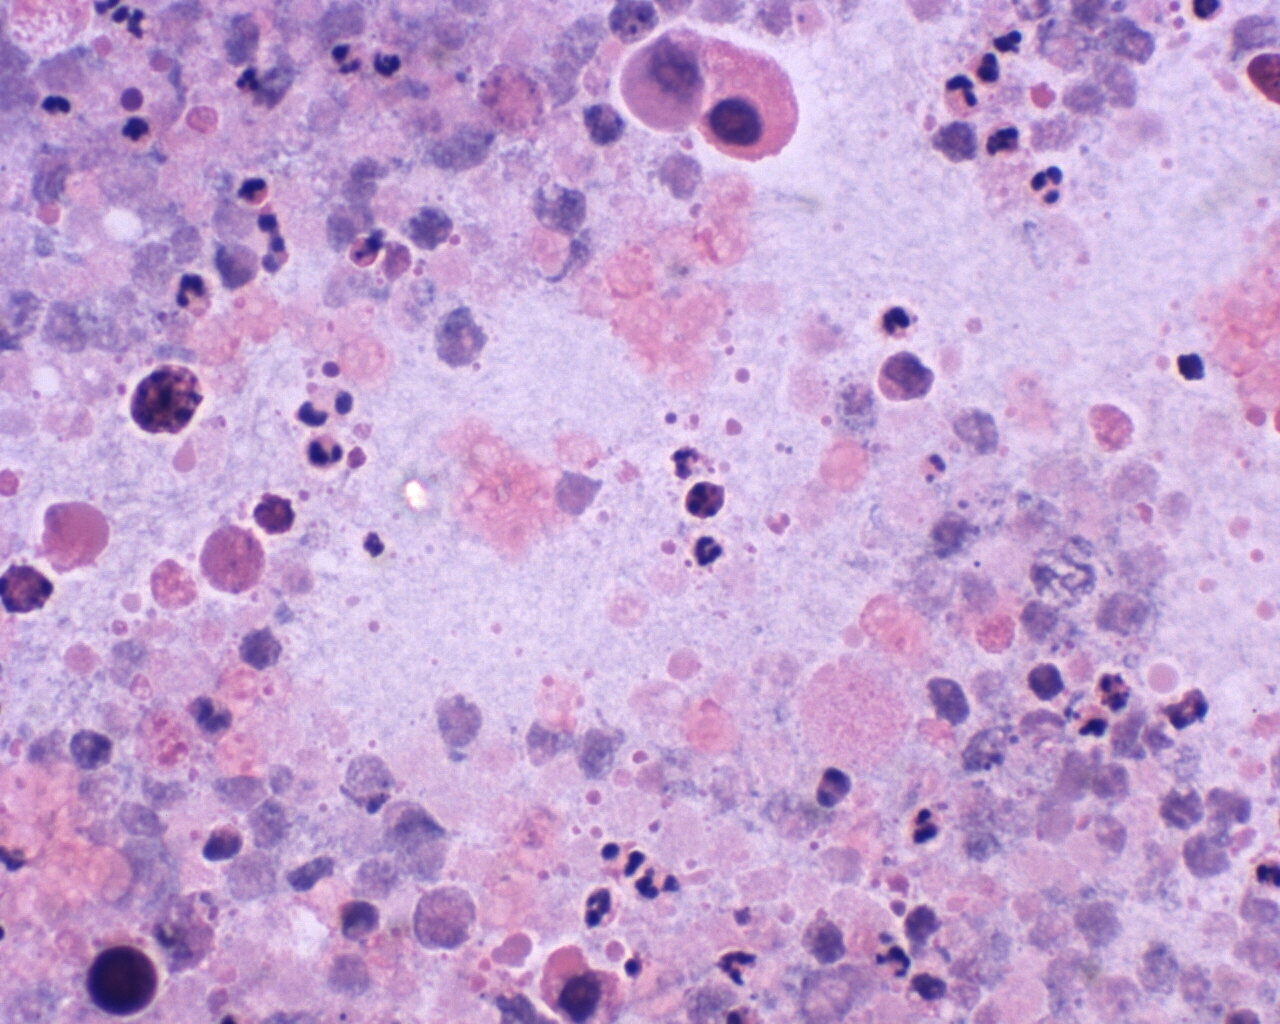ab: (83, 937, 168, 1017)
meso: (702, 33, 801, 164)
neutro: (1024, 154, 1073, 212), (173, 267, 215, 317), (302, 433, 348, 472), (876, 300, 920, 338), (689, 529, 726, 567)
